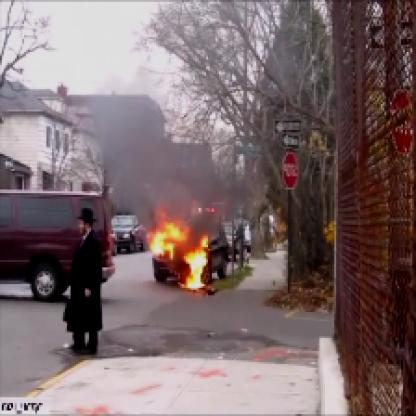Fire: (149, 199, 217, 297)
